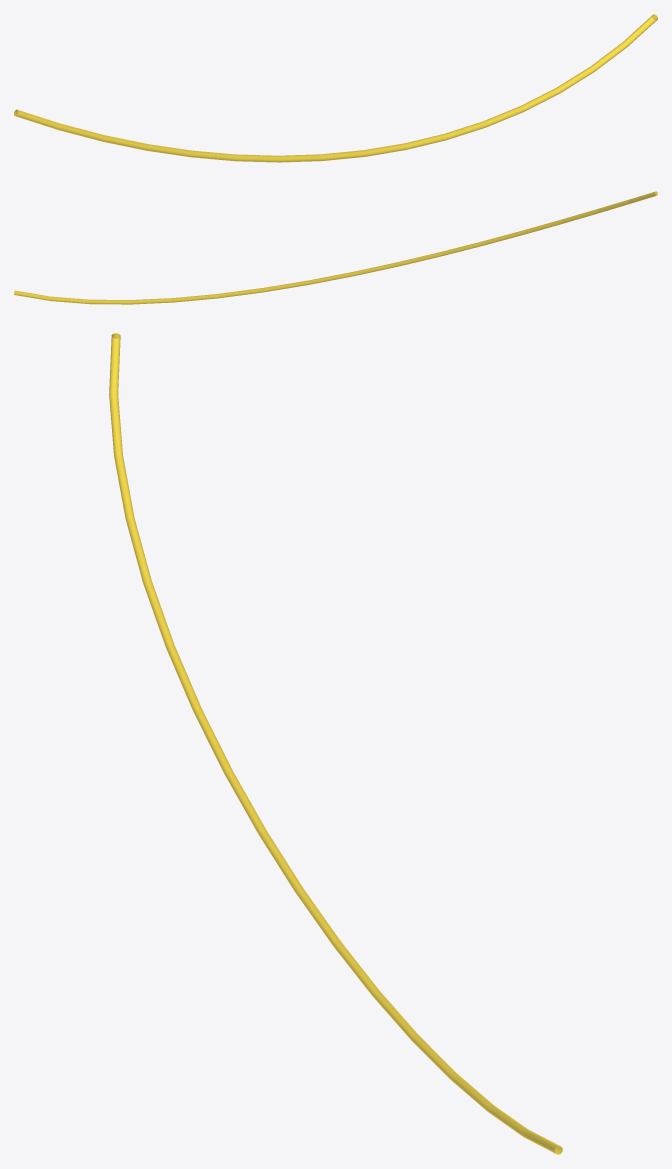
The model's file is Event_100608114_track_128.fbx.
The picture shows the model from 3 angles, top to bottom: view 1: azimuth 30°, elevation 25°; view 2: azimuth 150°, elevation 25°; view 3: azimuth 270°, elevation 25°; orthographic projection. The views are drawn at different scales.
Visible parts, largest first — view 1: Model; view 2: Model; view 3: Model.
Boxes of the visible parts, x1,y1,x2,y2 form: Model: (14, 14, 657, 162); Model: (14, 191, 657, 304); Model: (109, 333, 562, 1154).
Bounding box in the file's own units: 5.44 × 1.55 × 2.
